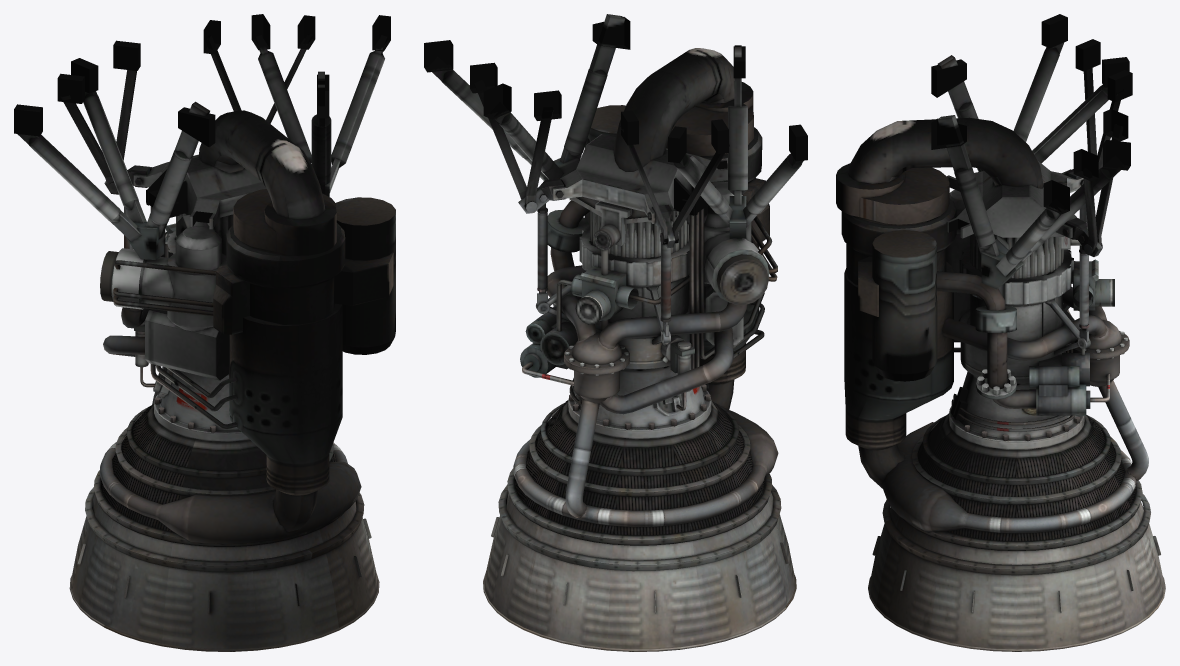
The picture shows the model from 3 angles, left to right: view 1: azimuth 30°, elevation 25°; view 2: azimuth 150°, elevation 25°; view 3: azimuth 270°, elevation 25°; orthographic projection. The views are drawn at different scales.
Visible parts, largest first — view 1: Rocket_Engine; view 2: Rocket_Engine; view 3: Rocket_Engine.
Part boxes in pixels (x1=…): Rocket_Engine: x1=14, y1=14, x2=395, y2=651; Rocket_Engine: x1=424, y1=14, x2=807, y2=651; Rocket_Engine: x1=836, y1=14, x2=1165, y2=651.
Size of the model in its own units: 2.11 by 2.79 by 1.66.
Materials: 1 (1 with a texture image).
